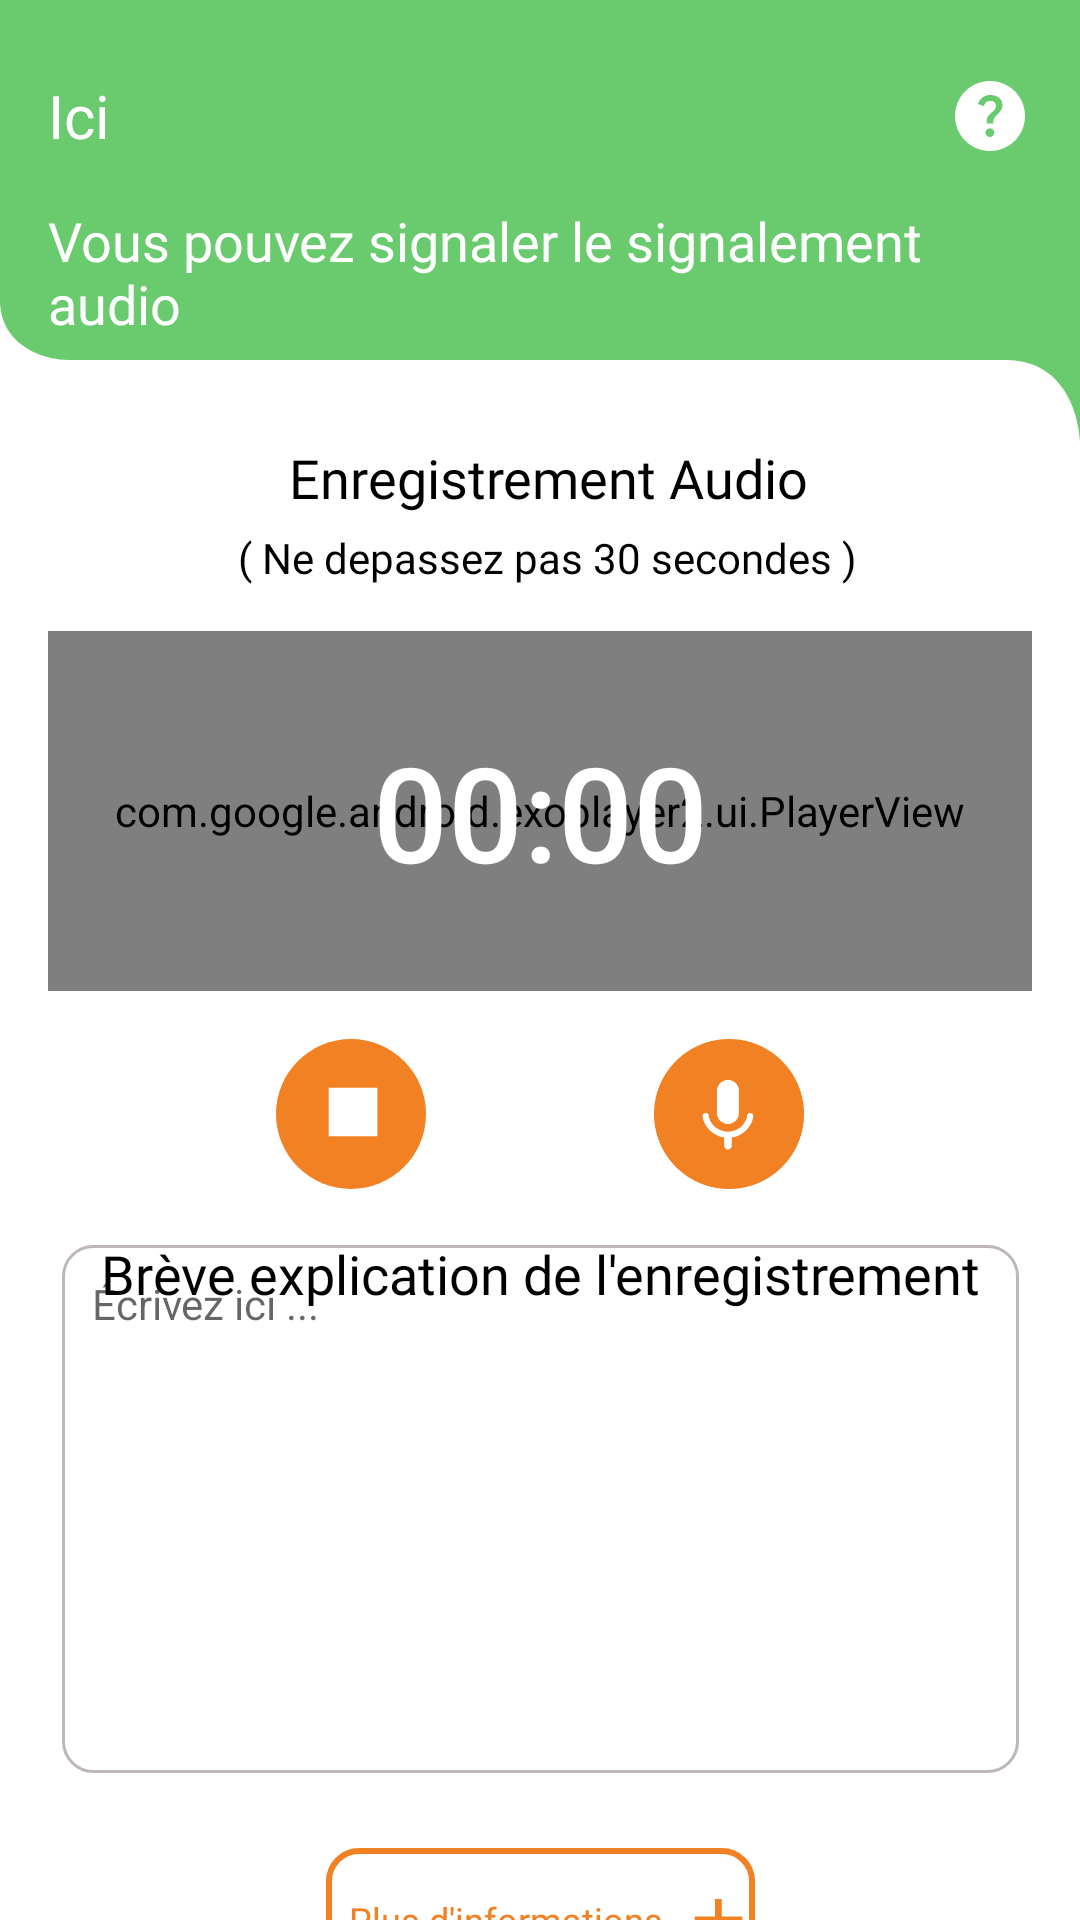

Where to tap for icons on this 1080 x 1920 app screen, as (x,y):
question: (990,116)
stop: (351,1114)
